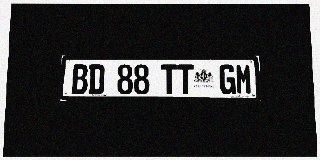8: (133, 64, 150, 94), (117, 64, 133, 94)
B: (71, 64, 88, 94)
D: (88, 64, 105, 94)
G: (219, 64, 236, 94)
M: (235, 64, 252, 94)
T: (177, 64, 194, 94), (161, 64, 177, 94)
